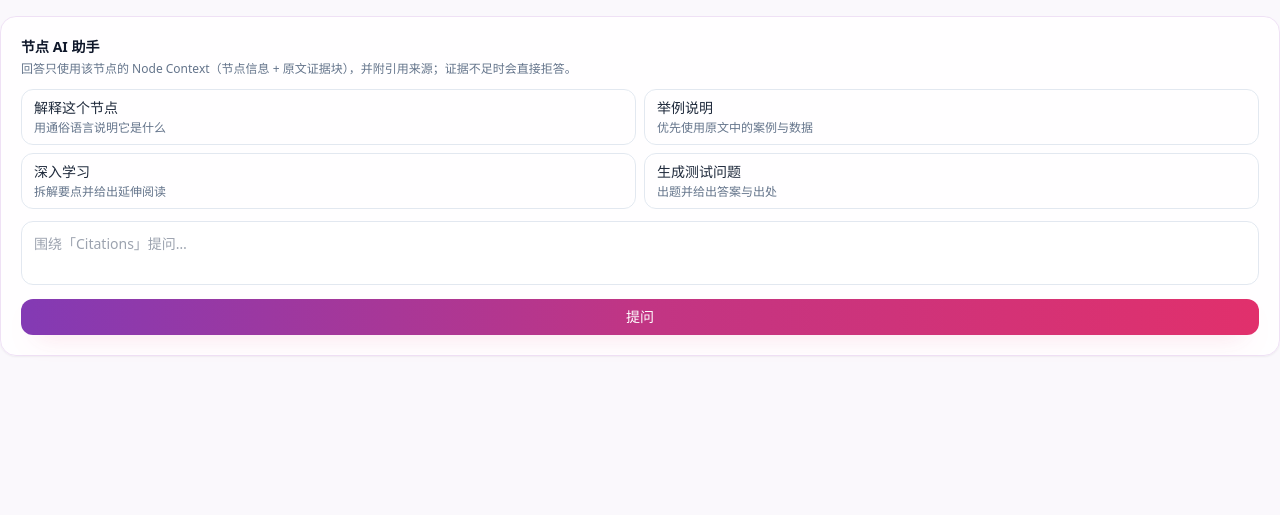
Test case: KnowledgeNodeQa (Node AI Assistant) › runs the explain capability and shows the grounded answer with citations
This screenshot has width=1280, height=515.
Click the button "解释这个节点 用通俗语言说明它是什么". click: [76, 108]
box: left=21, top=89, right=636, bottom=145
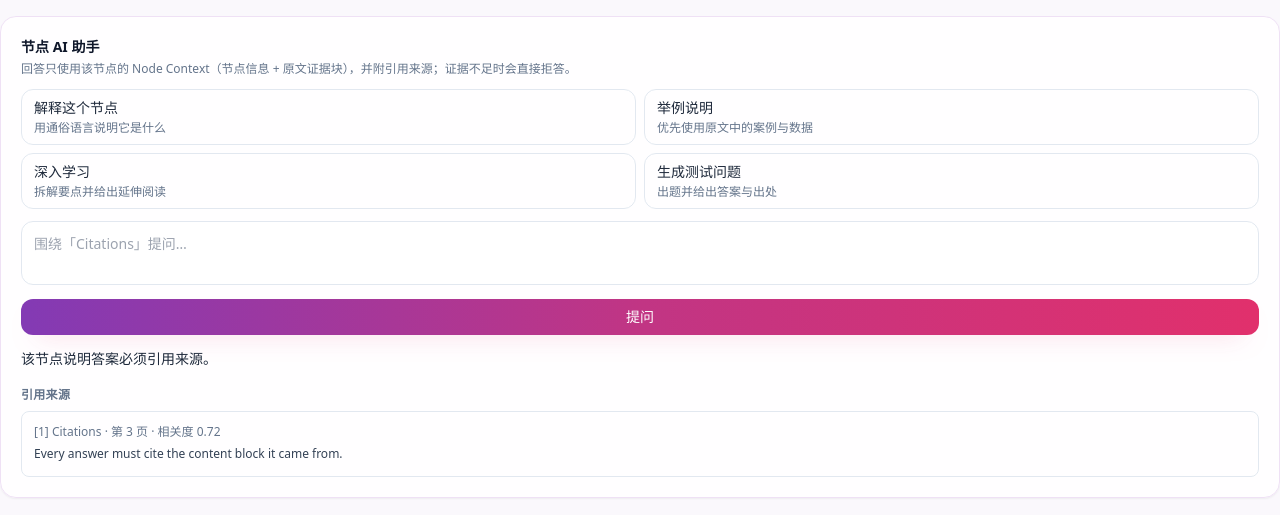
Check: the text "该节点说明答案必须引用来源。" is shown, box left=21, top=349, right=217, bottom=368
Check: the heading "引用来源" is shown, box left=21, top=386, right=70, bottom=403
Check: the text "[1] Citations · 第 3 页 · 相关度 0.72" is shown, box left=34, top=423, right=220, bottom=440
